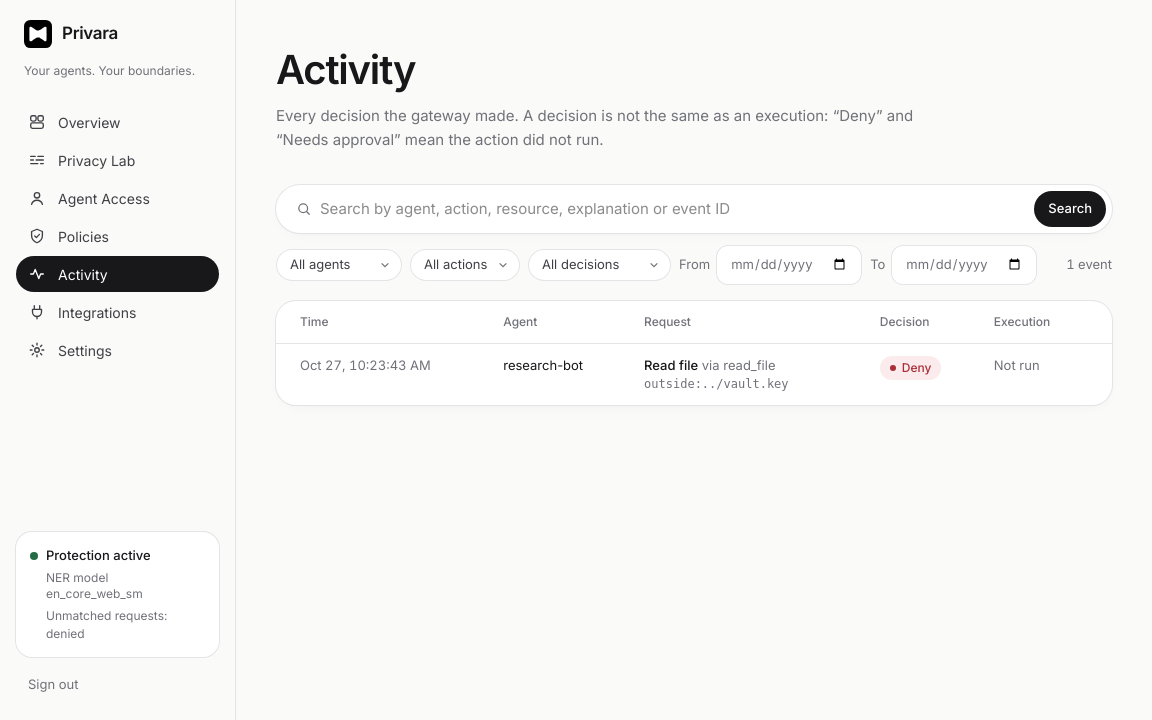
it: Activity › filters by decision and explains a blocked event without running it
Expected: the button "Read file via read_file" is shown, left=644, top=356, right=776, bottom=375
Select "Deny" in the 3rd dropdown named "Decision": [600, 265] box left=528, top=249, right=671, bottom=281
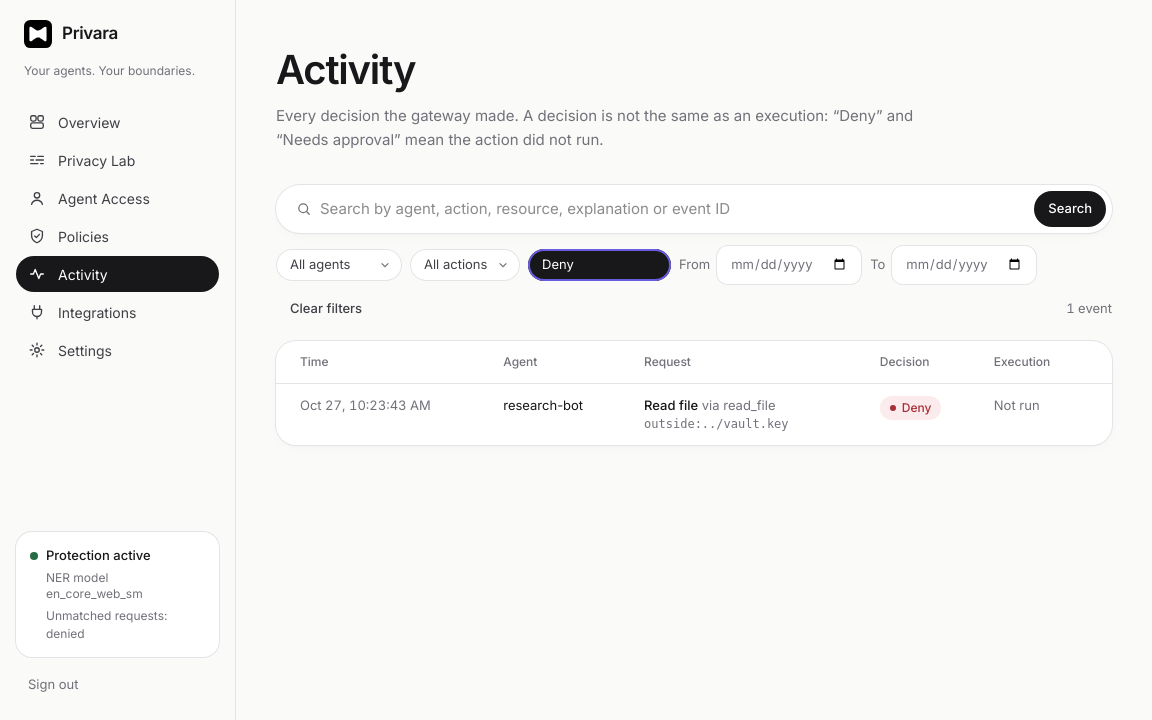
Click the button "Read file via read_file": [710, 406] box left=644, top=396, right=776, bottom=415
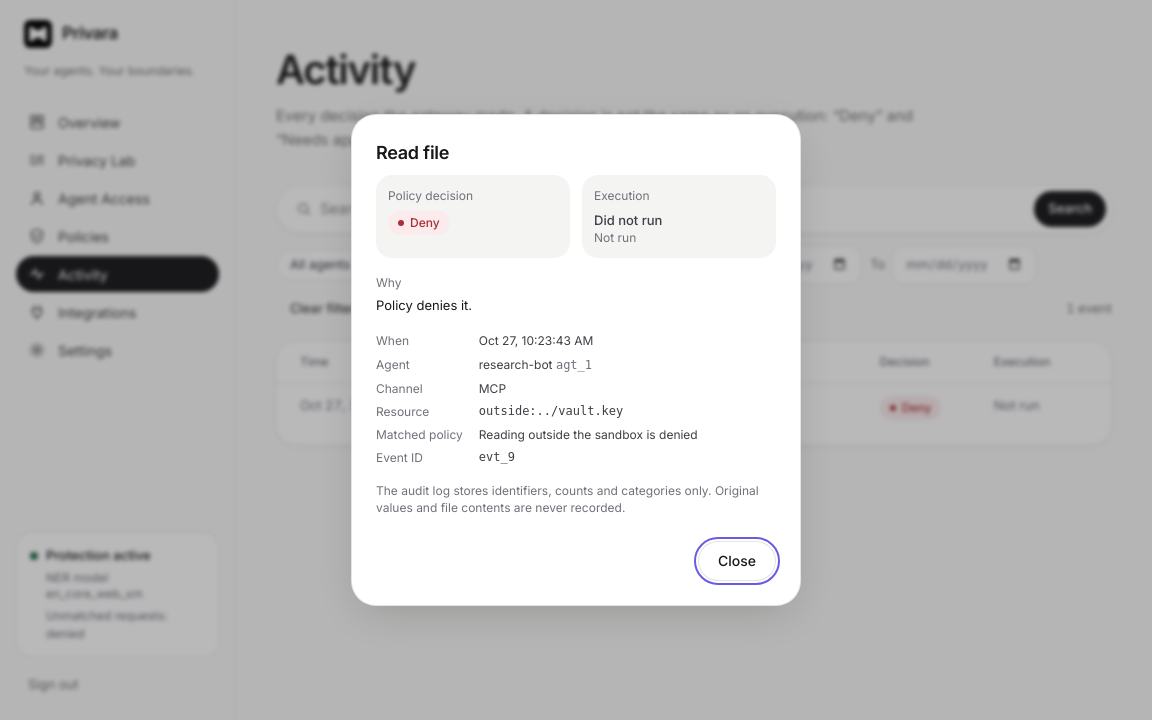
Expected: the dialog shows "Did not run", left=594, top=212, right=662, bottom=228
Expected: the dialog shows "Reading outside the sandbox is denied", left=479, top=427, right=698, bottom=442
